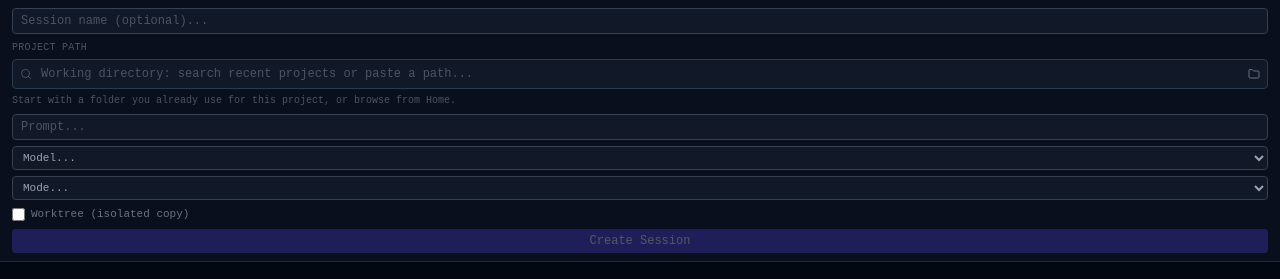
Test: NewSessionForm — folder picker integration › uses the native folder picker when available
Click the button named "browse for folder": (1254, 74) [1244, 64, 1264, 84]
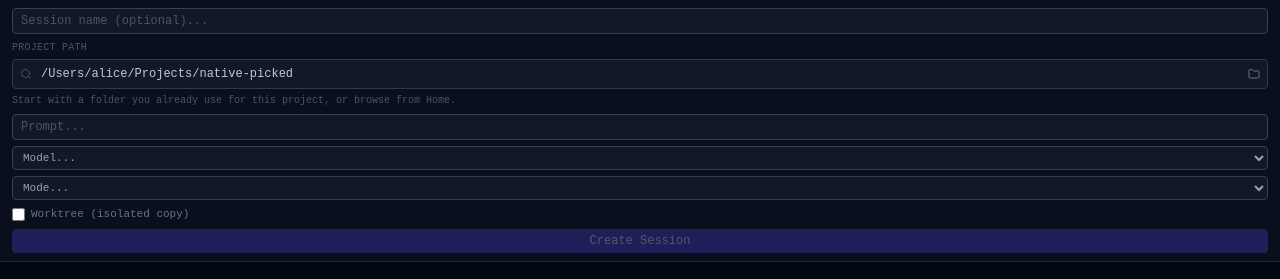
Now the dropdown with placeholder "Working directory" holds "/Users/alice/Projects/native-picked", box [12, 59, 1268, 89]
